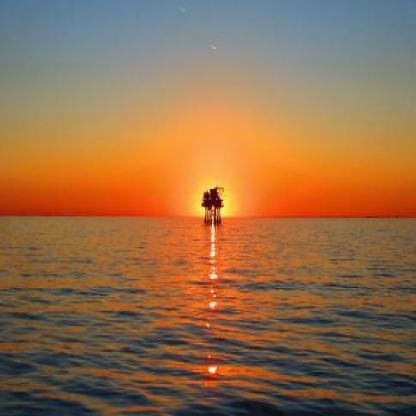other: (244, 129, 412, 213), (0, 157, 173, 215), (186, 173, 246, 222)
